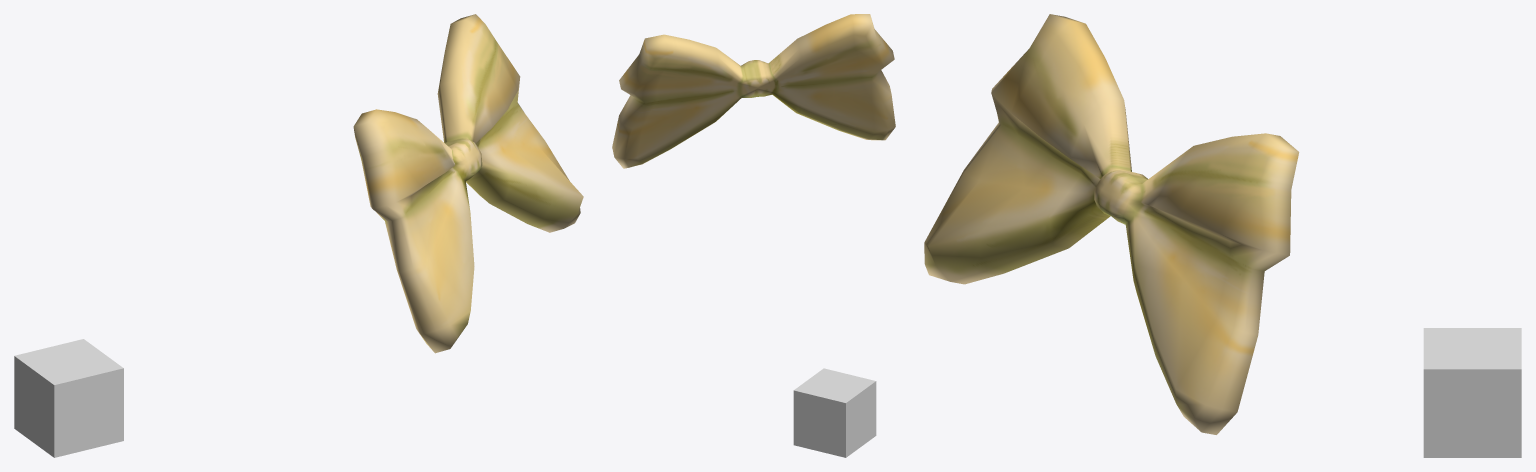
The model's file is ribbon4_girl.FBX.
3 renders of one model, left to right at view 1: azimuth 30°, elevation 25°; view 2: azimuth 150°, elevation 25°; view 3: azimuth 270°, elevation 25°, orthographic. The views are drawn at different scales.
Visible parts, largest first — view 1: girl_ribbon15, faceSpawn; view 2: girl_ribbon15, faceSpawn; view 3: girl_ribbon15, faceSpawn.
Part boxes in pixels (x1,y1,x2,y2): girl_ribbon15: [353, 14, 583, 353]; faceSpawn: [14, 339, 123, 457]; girl_ribbon15: [612, 14, 895, 168]; faceSpawn: [793, 368, 876, 457]; girl_ribbon15: [924, 14, 1299, 434]; faceSpawn: [1423, 328, 1521, 457].
Size of the model in its own units: 31.27 by 28.24 by 30.5.
